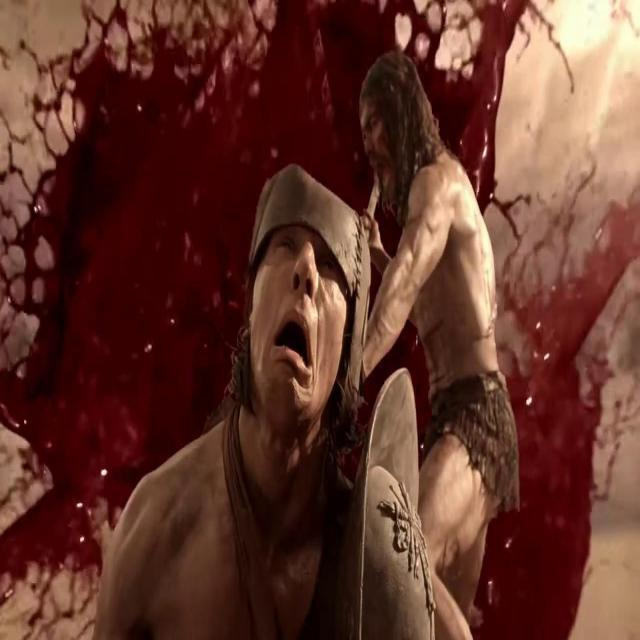flood: (25, 18, 378, 468), (448, 56, 608, 630)
